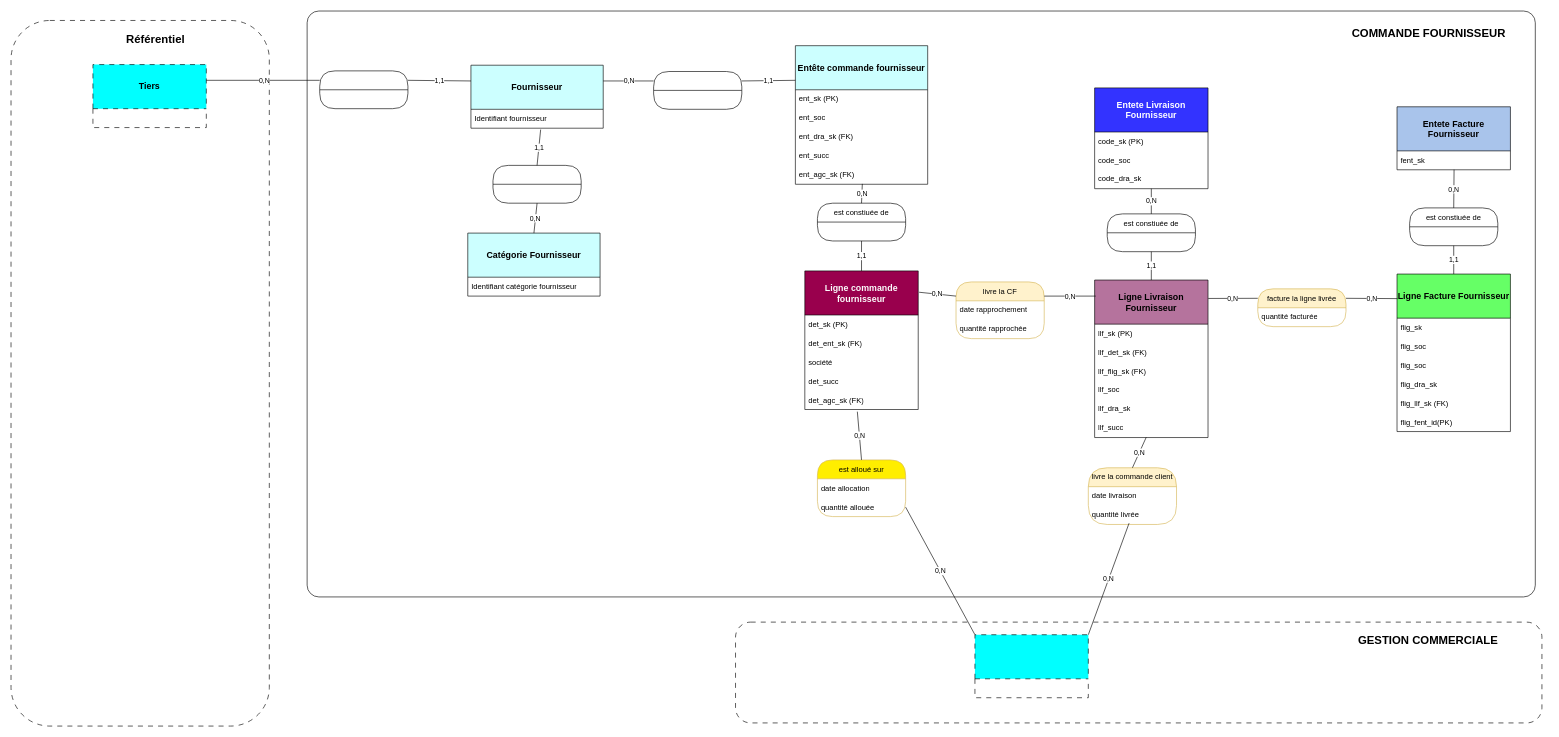
Image size: 1559x737. Some labels were removed from this diagram. Here are the shapes that lost their labels. From the top down, the centre of each, then its label:
the point at 363,89: est un
the point at 697,90: fournis
the point at 536,184: est de la
the point at 1031,666: Lignes CDE Client
